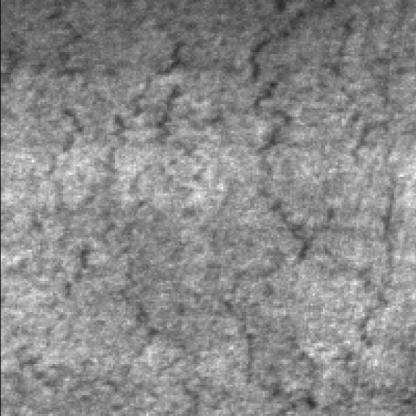crazing: (245, 2, 416, 345), (23, 77, 185, 401), (166, 193, 397, 416), (6, 11, 192, 168)
